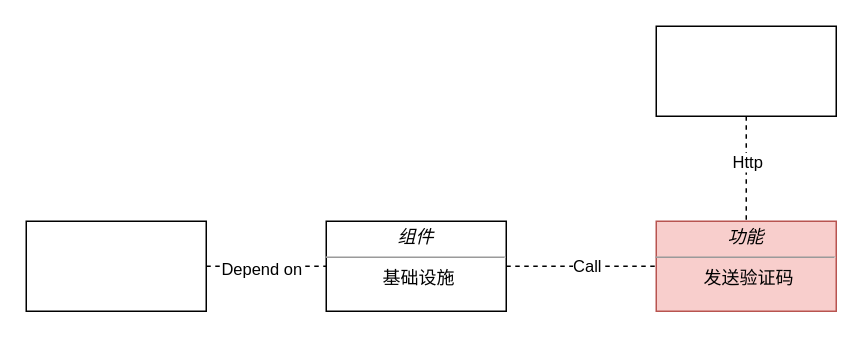
Image size: 863x338. Some labels were removed from this diagram. The box of each missing label's shape, as (x1, y1, x2, y2) in pixels:
云服务: (655, 25, 836, 116)
组件 Others: (25, 220, 206, 311)
